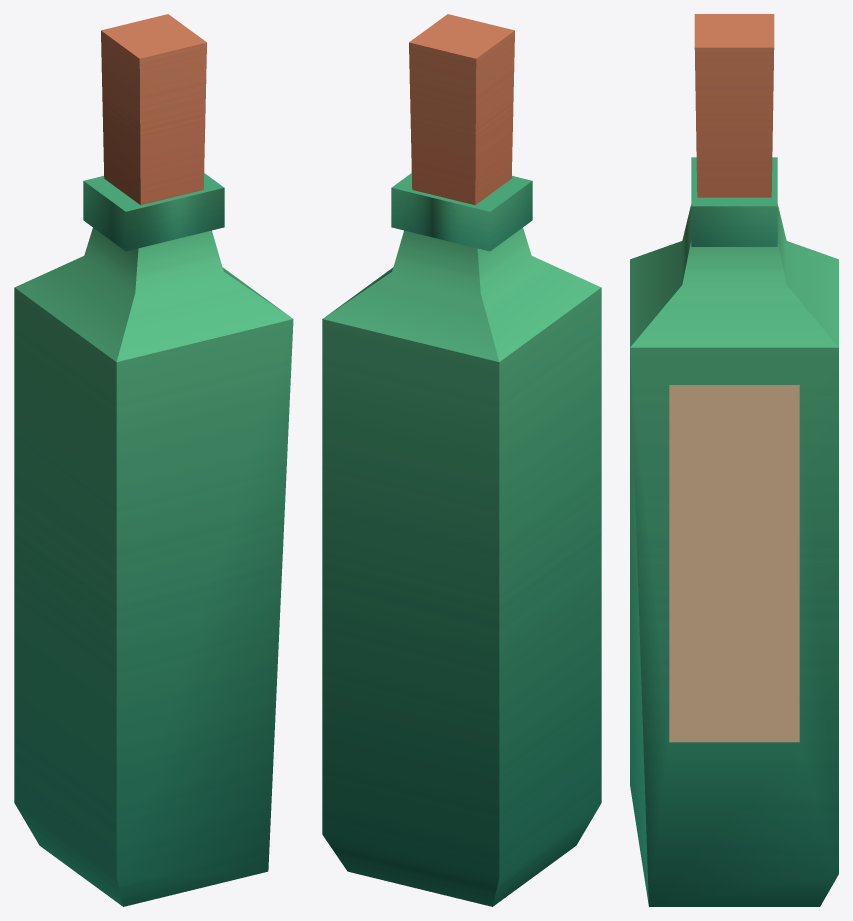
File: cc0-bottle-oil-lod1.glb
The picture shows the model from 3 angles, left to right: view 1: azimuth 30°, elevation 25°; view 2: azimuth 150°, elevation 25°; view 3: azimuth 270°, elevation 25°; orthographic projection. The views are drawn at different scales.
Parts seen in each view (by area): view 1: part_0; view 2: part_0; view 3: part_0.
Boxes of the visible parts, x1=… form: part_0: x1=14, y1=14, x2=293, y2=906; part_0: x1=322, y1=14, x2=601, y2=906; part_0: x1=630, y1=14, x2=838, y2=906.
Size of the model in its own units: 0.14 by 0.6218 by 0.14.
1 material, 1 textured.
